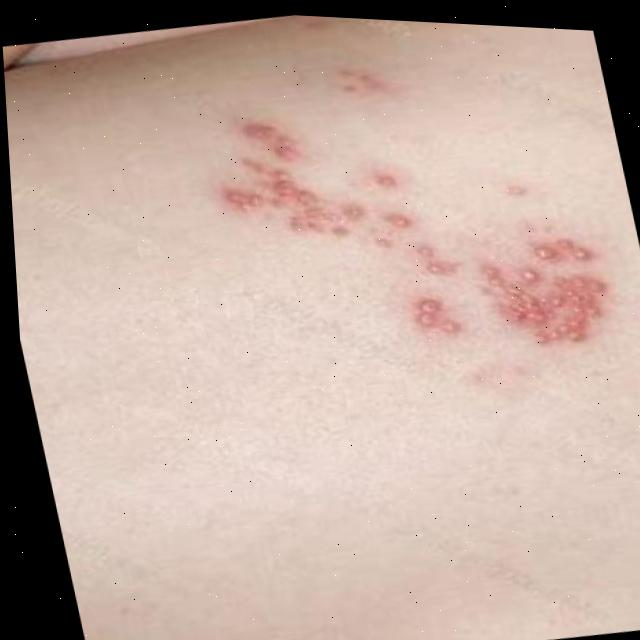Shingles: (193, 26, 624, 397)
